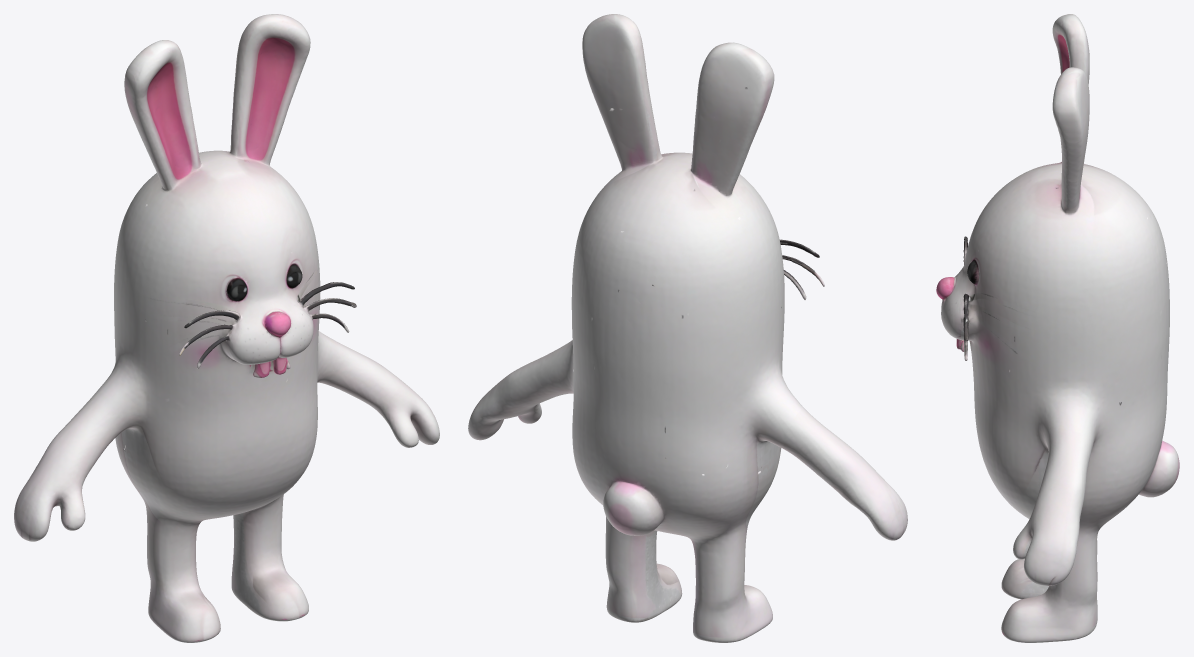
File: RABBIT.fbx
3 renders of one model, left to right at view 1: azimuth 30°, elevation 25°; view 2: azimuth 150°, elevation 25°; view 3: azimuth 270°, elevation 25°, orthographic. The views are drawn at different scales.
Parts seen in each view (by area): view 1: Mesh_0.194; view 2: Mesh_0.194; view 3: Mesh_0.194.
Boxes of the visible parts, x1,y1,x2,y2 form: Mesh_0.194: (14,14,439,642); Mesh_0.194: (468,14,907,642); Mesh_0.194: (936,14,1179,642).
Size of the model in its own units: 151 by 200 by 77.63.
Materials: 1 (1 with a texture image).
